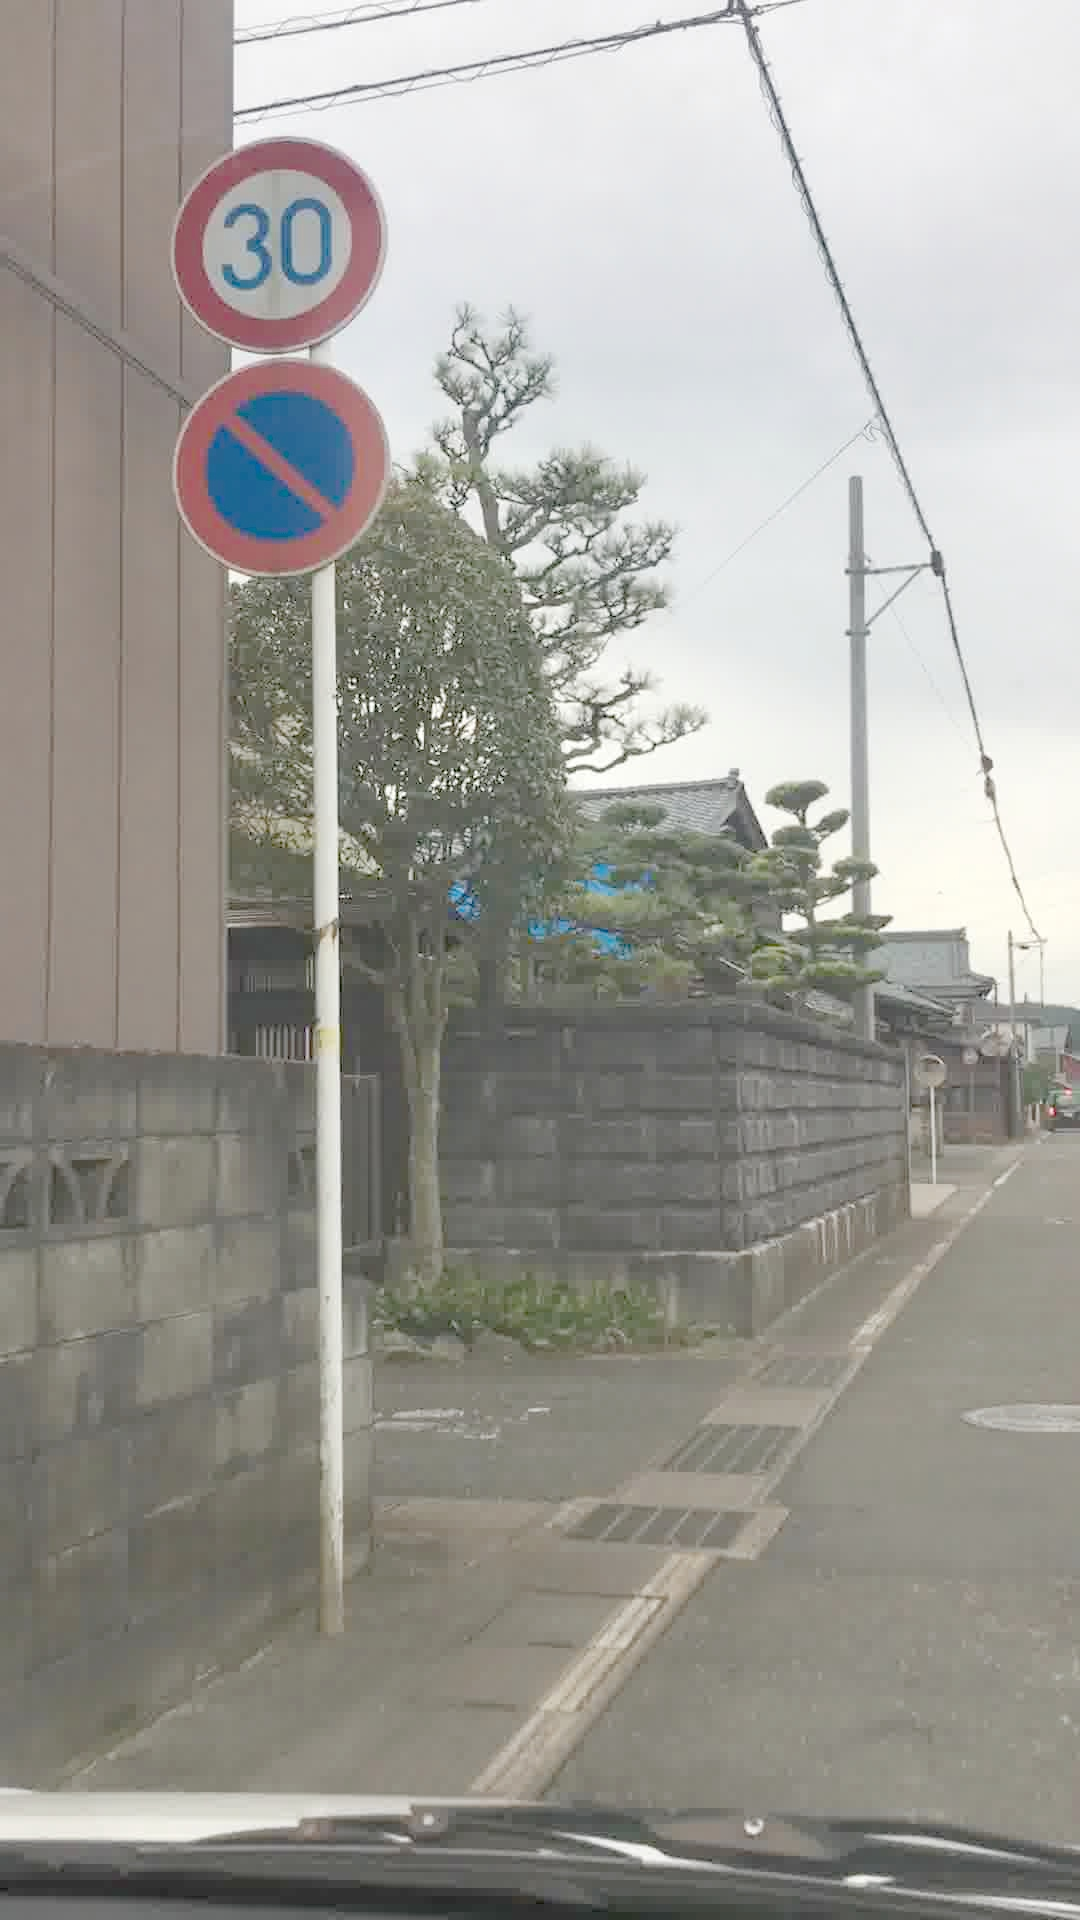Prohibition_sign: (154, 336, 425, 608)
Speed_sign: (142, 113, 394, 352)
